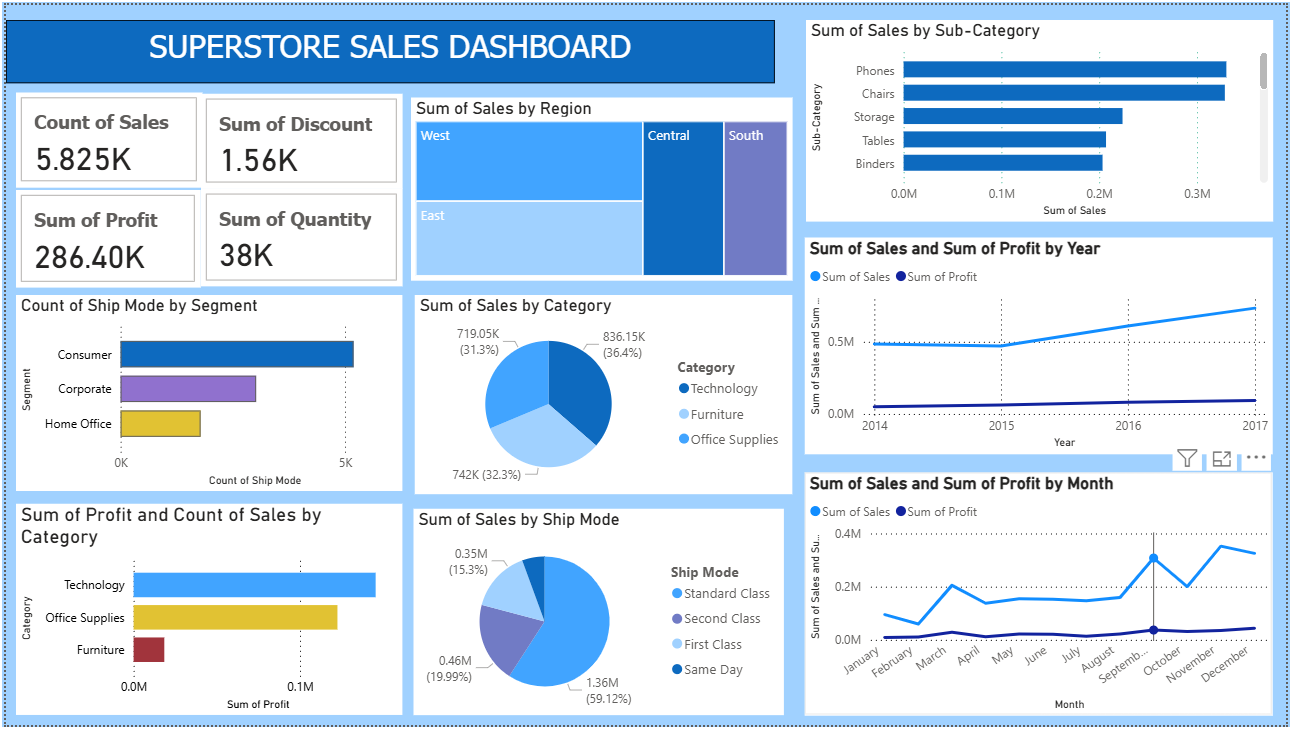

Layout of this report page (visuals, bound fields, positions):
{"tool":"powerbi","page":{"name":"Page 1","canvas":[1280,720],"ordinal":0},"visuals":[{"type":"clusteredBarChart","fields":{"Category":["Orders (2).Category"],"Y":["Sum(Orders (2).Profit)"]},"box":[9.8,498.9,386.4,211.6],"z":0},{"type":"lineChart","fields":{"Category":["Orders (2).Order Date.Variation.Date Hierarchy.Year"],"Y":["Sum(Orders (2).Sales)","Sum(Orders (2).Profit)"]},"box":[798.5,232.3,468.3,216.4],"z":1000},{"type":"textbox","box":[0,14.7,769.2,63.6],"z":2000},{"type":"cardVisual","fields":{"Data":["Count(Orders (2).Sales)"]},"box":[10.1,87.3,186.1,94.9],"z":3000},{"type":"cardVisual","fields":{"Data":["Sum(Orders (2).Profit)"]},"box":[10.1,184.8,184.8,97.5],"z":4000},{"type":"cardVisual","fields":{"Data":["Sum(Orders (2).Quantity)"]},"box":[194.9,183.5,201.3,97.5],"z":5000},{"type":"cardVisual","fields":{"Data":["Sum(Orders (2).Discount)"]},"box":[194.9,88.6,201.3,94.9],"z":6000},{"type":"barChart","fields":{"Category":["Orders (2).Segment"],"Y":["CountNonNull(Orders (2).Ship Mode)"]},"box":[10.1,289.9,386.1,196.2],"z":7000},{"type":"treemap","fields":{"Group":["Orders (2).Region"],"Values":["Sum(Orders (2).Sales)"]},"box":[404.8,92.9,381.5,183.4],"z":8000},{"type":"lineChart","fields":{"Category":["Orders (2).Order Date.Variation.Date Hierarchy.Month"],"Y":["Sum(Orders (2).Sales)","Sum(Orders (2).Profit)"]},"box":[798.5,467.1,468.3,243.3],"z":9000},{"type":"pieChart","fields":{"Category":["Orders (2).Category"],"Y":["Sum(Orders (2).Sales)"]},"box":[408.4,289.8,377.9,199.3],"z":10000},{"type":"pieChart","fields":{"Category":["Orders (2).Ship Mode"],"Y":["Sum(Orders (2).Sales)"]},"box":[407.2,503.8,370.5,206.7],"z":11000},{"type":"barChart","fields":{"Category":["Orders (2).Sub-Category"],"Y":["Sum(Orders (2).Sales)"]},"box":[799.7,14.7,467.1,201.8],"z":12000}]}

Visuals, with their boxes in screenshot pixels (x1, y1, x2, y2), scaled from the page's 1280x720 canvas onto the 1292x729 screenshot:
clusteredBarChart - Orders (2).Category x Sum(Orders (2).Profit): <region>10, 505, 400, 719</region>
lineChart - Orders (2).Order Date.Variation.Date Hierarchy.Year x Sum(Orders (2).Sales): <region>806, 235, 1279, 454</region>
textbox: <region>0, 15, 776, 79</region>
cardVisual - Count(Orders (2).Sales): <region>10, 88, 198, 184</region>
cardVisual - Sum(Orders (2).Profit): <region>10, 187, 197, 286</region>
cardVisual - Sum(Orders (2).Quantity): <region>197, 186, 400, 285</region>
cardVisual - Sum(Orders (2).Discount): <region>197, 90, 400, 186</region>
barChart - Orders (2).Segment x CountNonNull(Orders (2).Ship Mode): <region>10, 294, 400, 492</region>
treemap - Orders (2).Region x Sum(Orders (2).Sales): <region>409, 94, 794, 280</region>
lineChart - Orders (2).Order Date.Variation.Date Hierarchy.Month x Sum(Orders (2).Sales): <region>806, 473, 1279, 719</region>
pieChart - Orders (2).Category x Sum(Orders (2).Sales): <region>412, 293, 794, 495</region>
pieChart - Orders (2).Ship Mode x Sum(Orders (2).Sales): <region>411, 510, 785, 719</region>
barChart - Orders (2).Sub-Category x Sum(Orders (2).Sales): <region>807, 15, 1279, 219</region>
